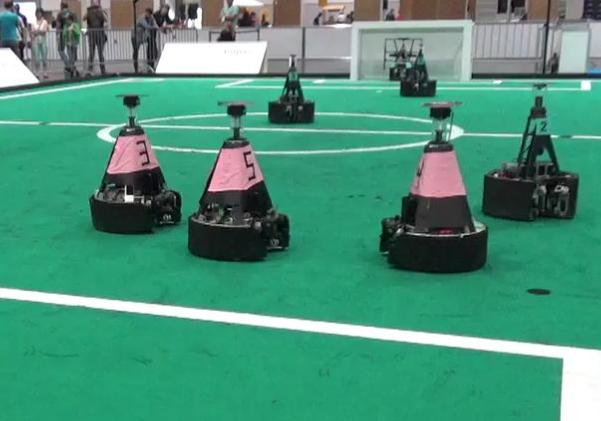robot: (182, 96, 301, 265), (378, 96, 490, 274), (85, 90, 185, 237), (482, 75, 580, 223), (263, 50, 321, 124), (396, 43, 440, 97)
